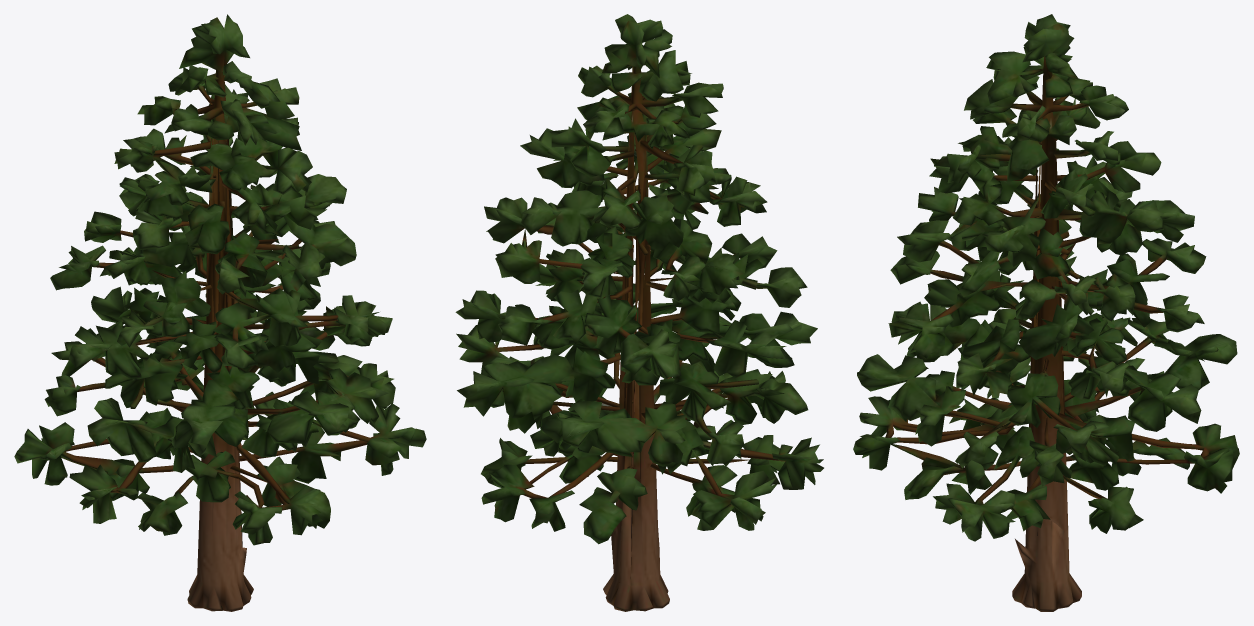
The model's file is tree-2.glb.
3 views of the same model, side by side, from view 1: azimuth 30°, elevation 25°; view 2: azimuth 150°, elevation 25°; view 3: azimuth 270°, elevation 25° (orthographic).
Visible parts, largest first — view 1: tripo_node_5ac2e257-2827-45a7-be78-113f09cd1fe2; view 2: tripo_node_5ac2e257-2827-45a7-be78-113f09cd1fe2; view 3: tripo_node_5ac2e257-2827-45a7-be78-113f09cd1fe2.
Boxes of the visible parts, x1,y1,x2,y2 form: tripo_node_5ac2e257-2827-45a7-be78-113f09cd1fe2: (14, 14, 426, 611); tripo_node_5ac2e257-2827-45a7-be78-113f09cd1fe2: (455, 14, 823, 611); tripo_node_5ac2e257-2827-45a7-be78-113f09cd1fe2: (853, 14, 1239, 611).
Size of the model in its own units: 0.5918 by 0.998 by 0.6074.
1 material, 1 textured.
